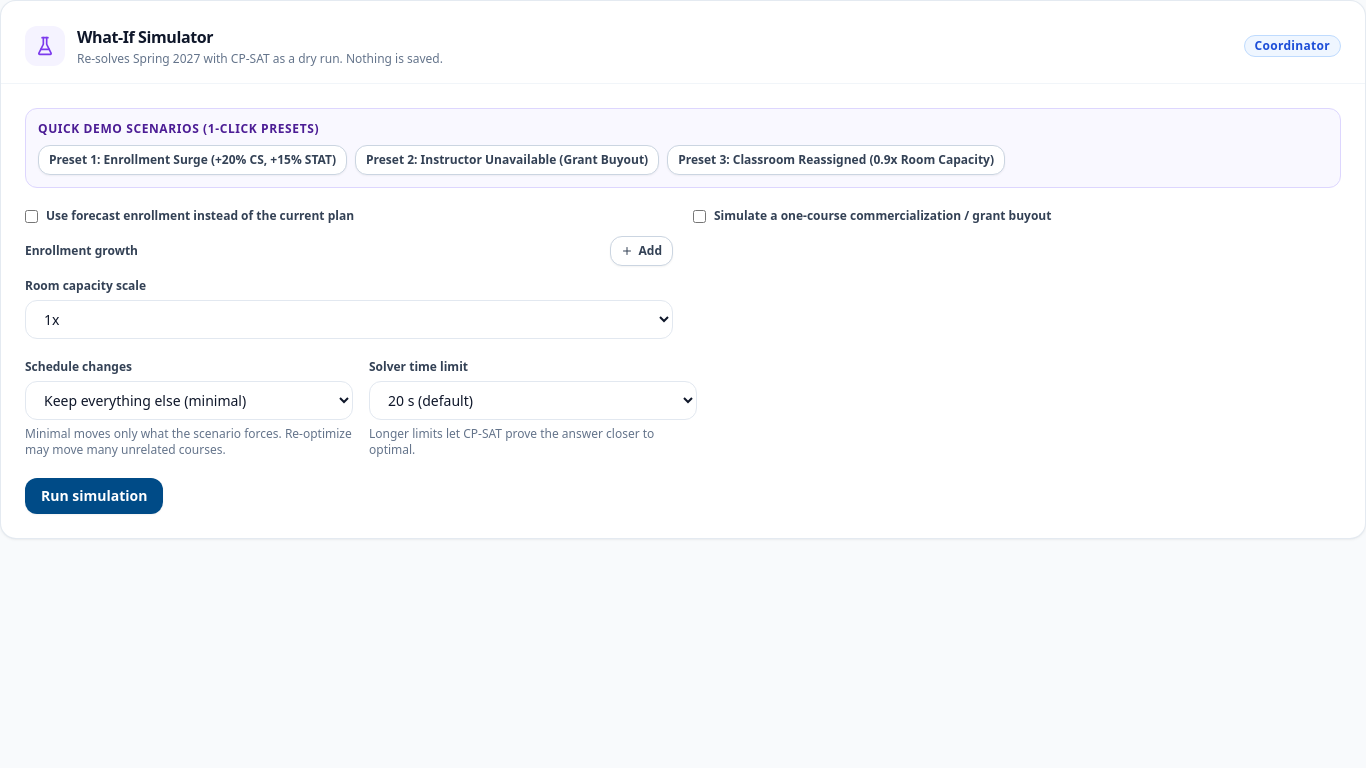
Test: WhatIfPanel › runs a coordinator buyout scenario and renders the before/after diff
This screenshot has width=1366, height=768.
Step 1. Click the checkbox with test id "buyout-toggle" → (700, 216), box [693,210,706,222]
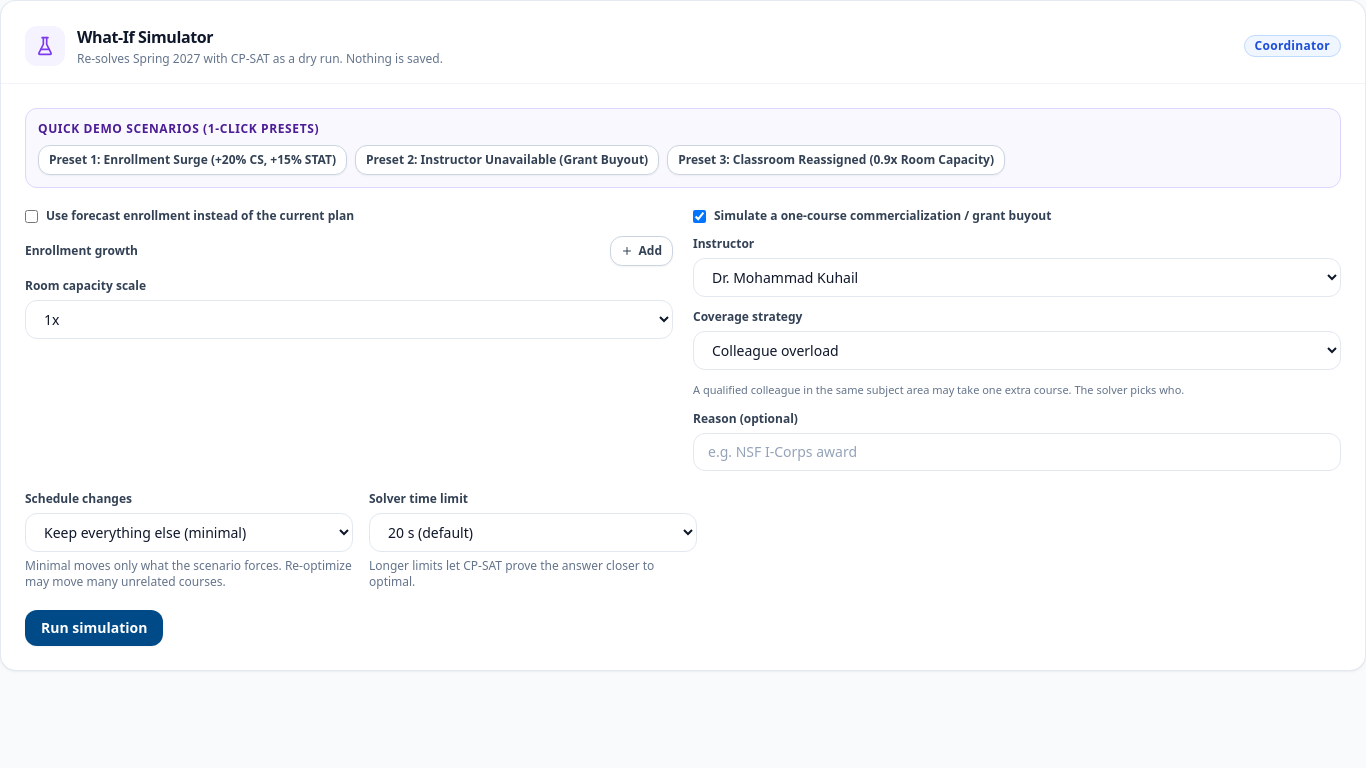
Check: the dropdown with test id "buyout-instructor" shows "Dr. Mohammad Kuhail"
Step 2. Select "Dr. Yugyung Lee" in the dropdown with test id "buyout-instructor" → (1017, 278), box [693,258,1341,297]
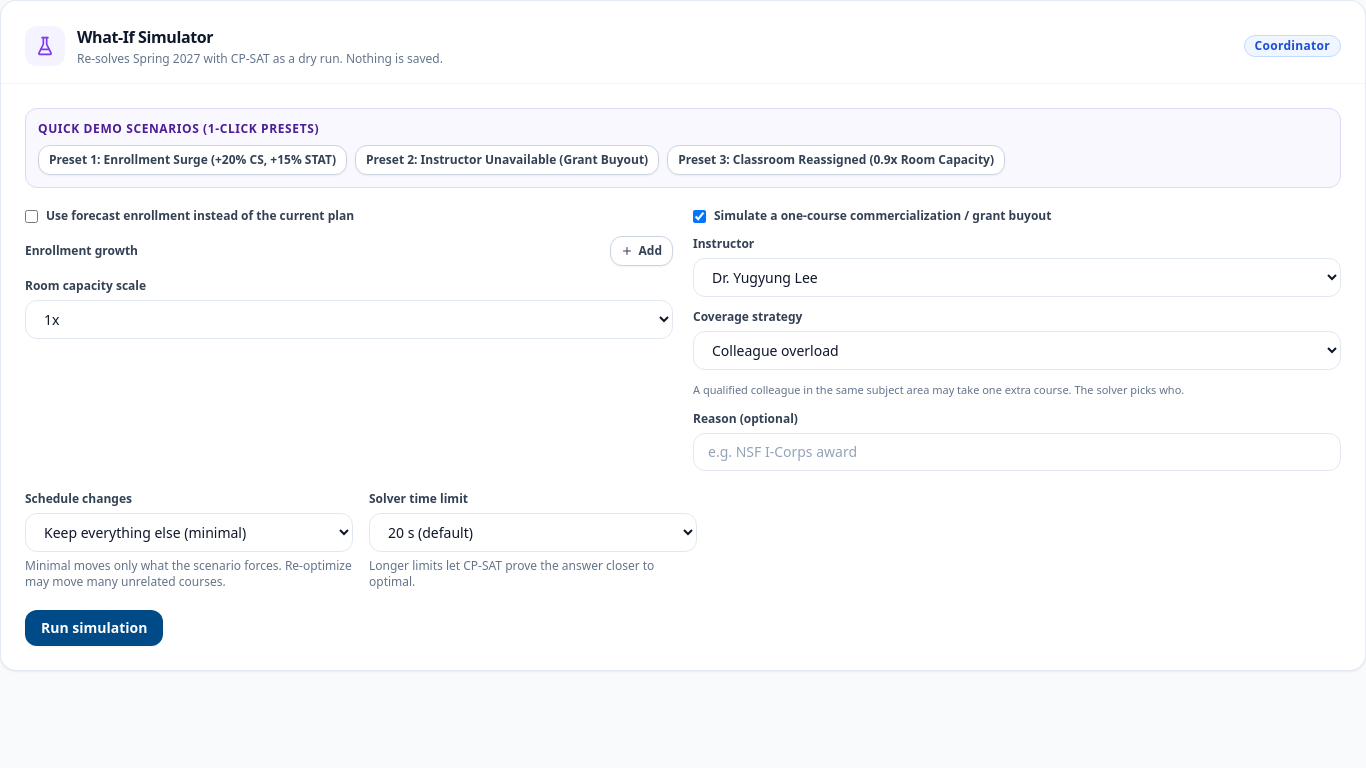
Step 3. Select "Adjunct replacement" in the dropdown with test id "coverage-strategy" → (1017, 350), box [693,331,1341,370]
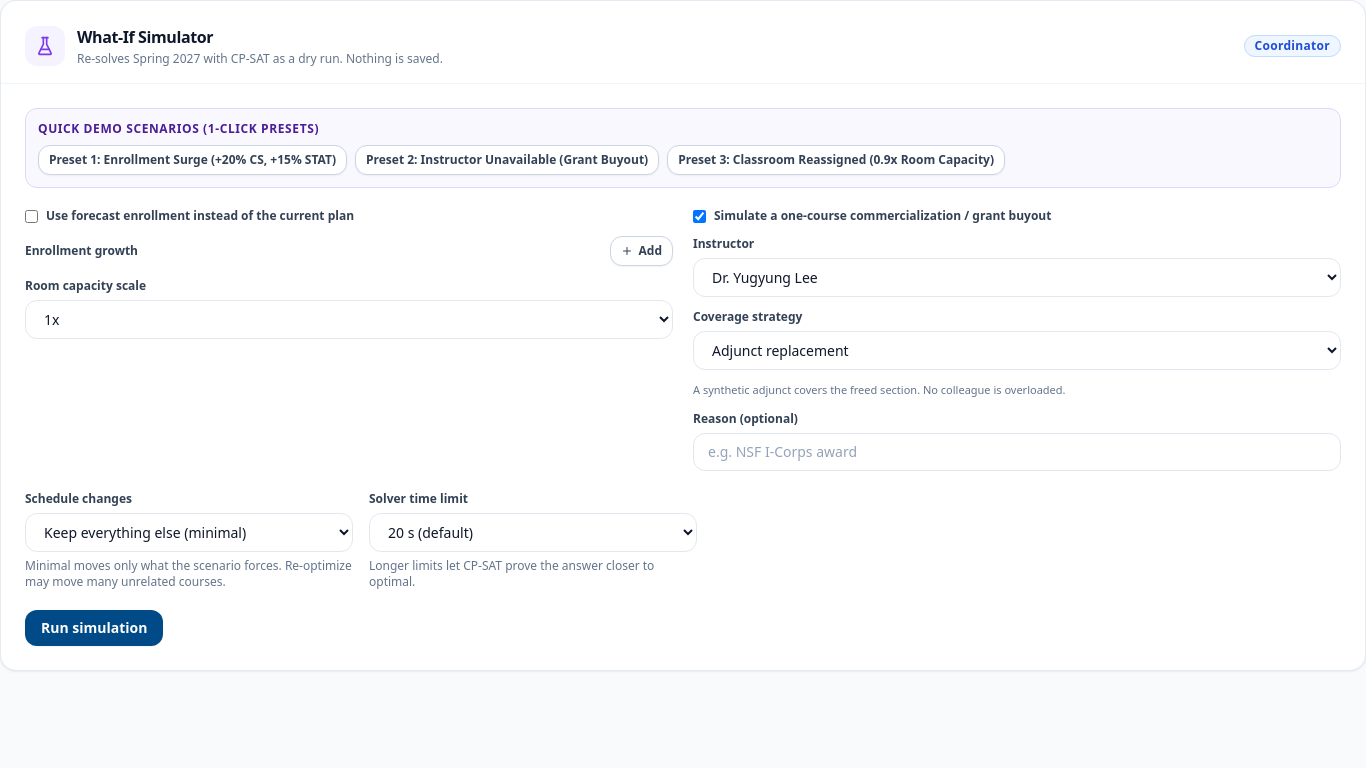
Check: the dropdown with test id "time-limit" shows "20 s (default)", box [369,512,697,552]
Step 4. Select "Re-optimize the whole timetable" in the dropdown with test id "change-policy" → (189, 532), box [25,512,353,552]
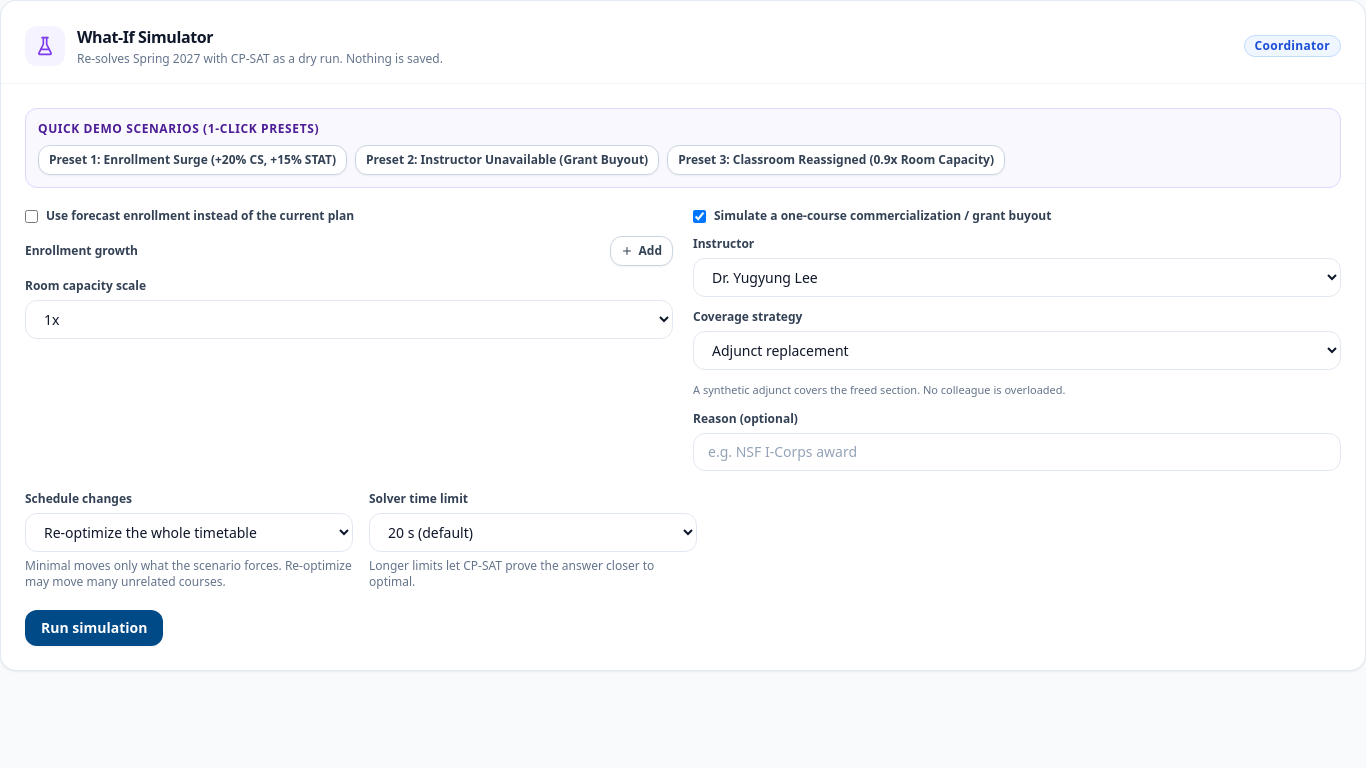
Step 5. Select "30 s (tightest)" in the dropdown with test id "time-limit" → (533, 532), box [369,512,697,552]
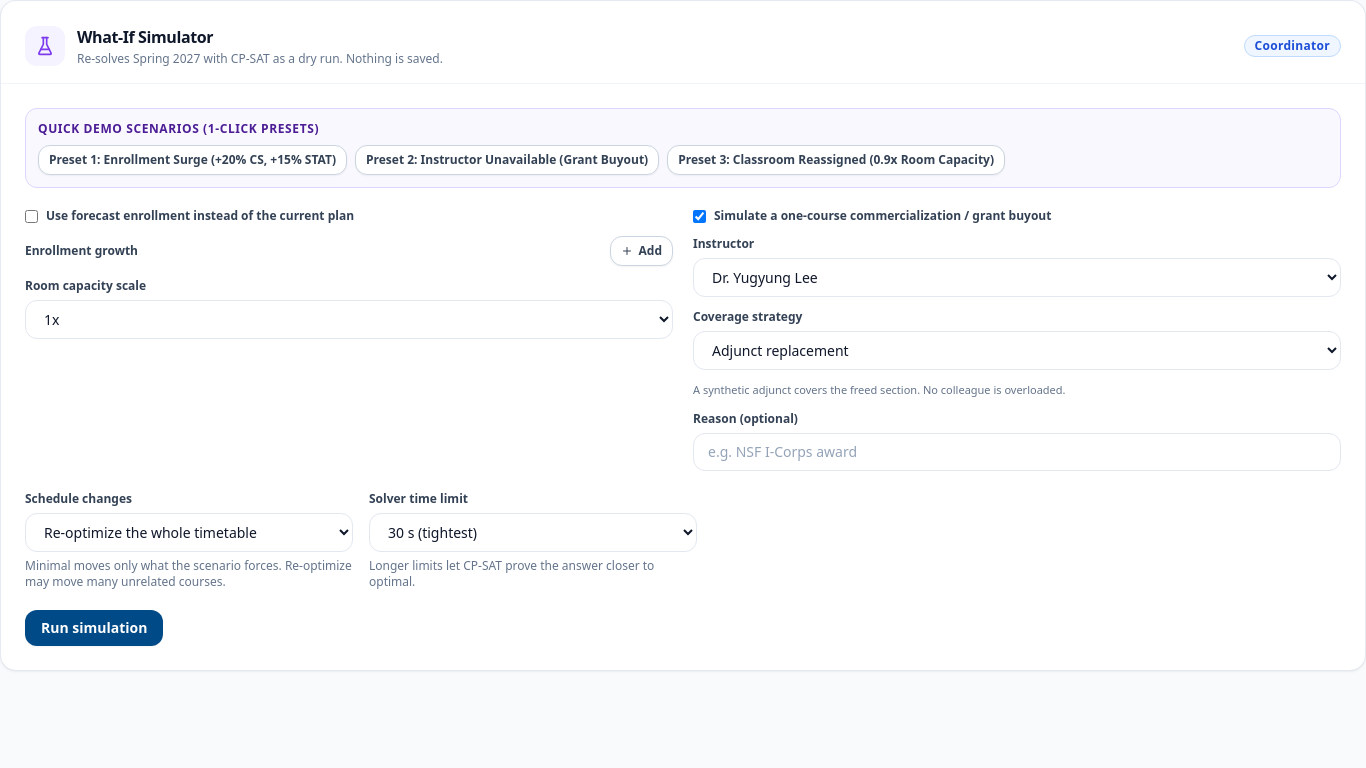
Step 6. Click the button with test id "run-scenario" → (94, 628), box [25,610,163,646]
(page scrolled)
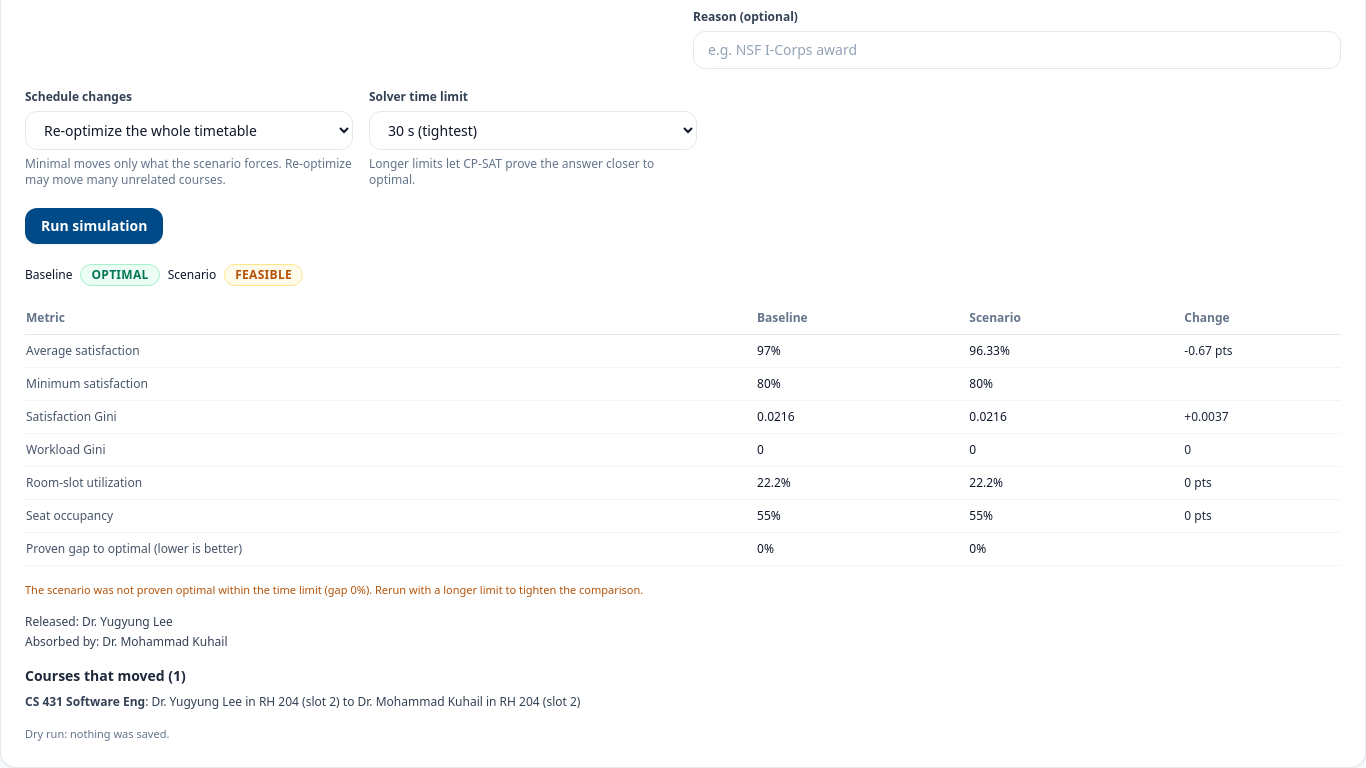
Check: the element with test id "whatif-result" is shown
Check: the text with test id "baseline-status" reads "OPTIMAL", box [91,266,149,282]
Check: the text with test id "scenario-status" reads "FEASIBLE", box [235,266,292,282]
